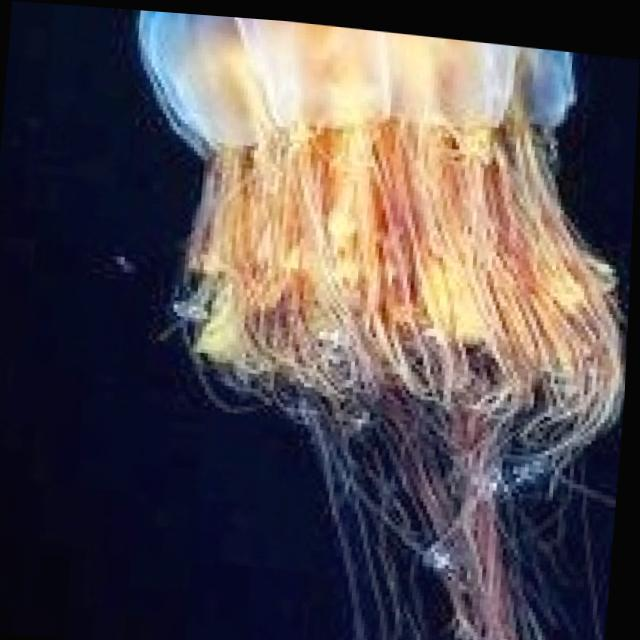Box-jellyfish: (91, 7, 640, 640)
